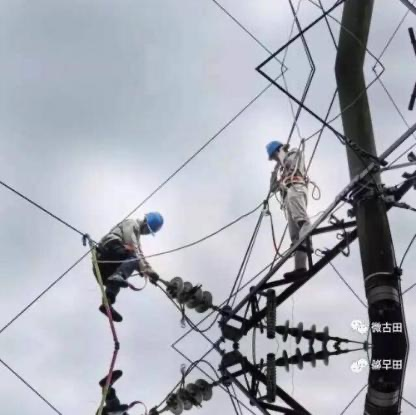Safety Helmet: (135, 207, 166, 242), (262, 136, 289, 165)
